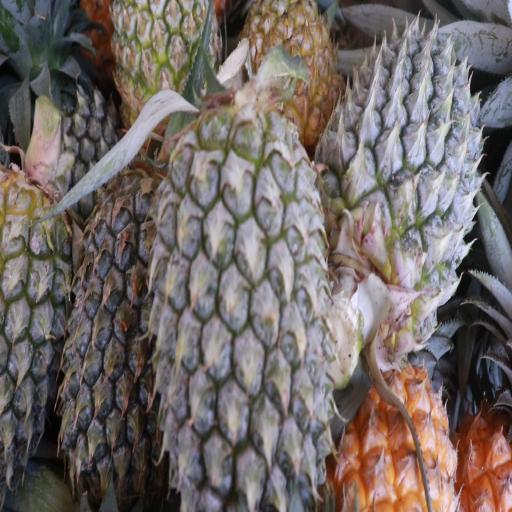------------------------------: (115, 0, 216, 116)
Pineapple - v8 v1: (338, 356, 455, 512), (242, 0, 339, 141)
